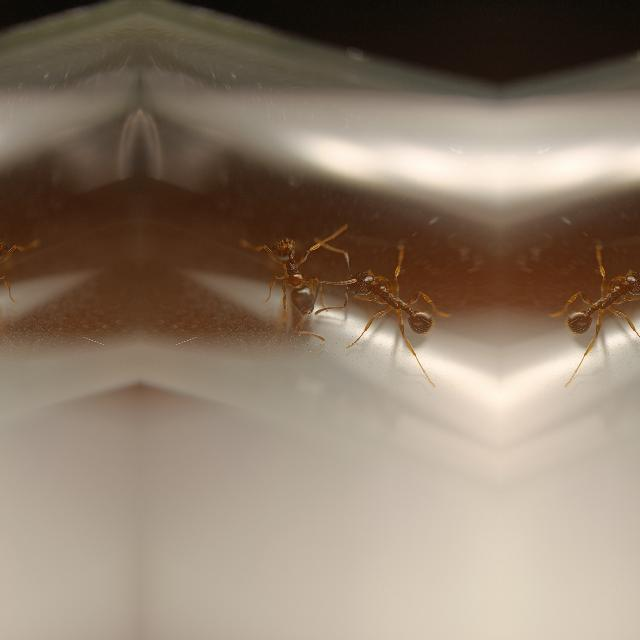Apheanogaster: (341, 243, 441, 361), (558, 243, 640, 361), (257, 223, 331, 341), (0, 223, 20, 341)
